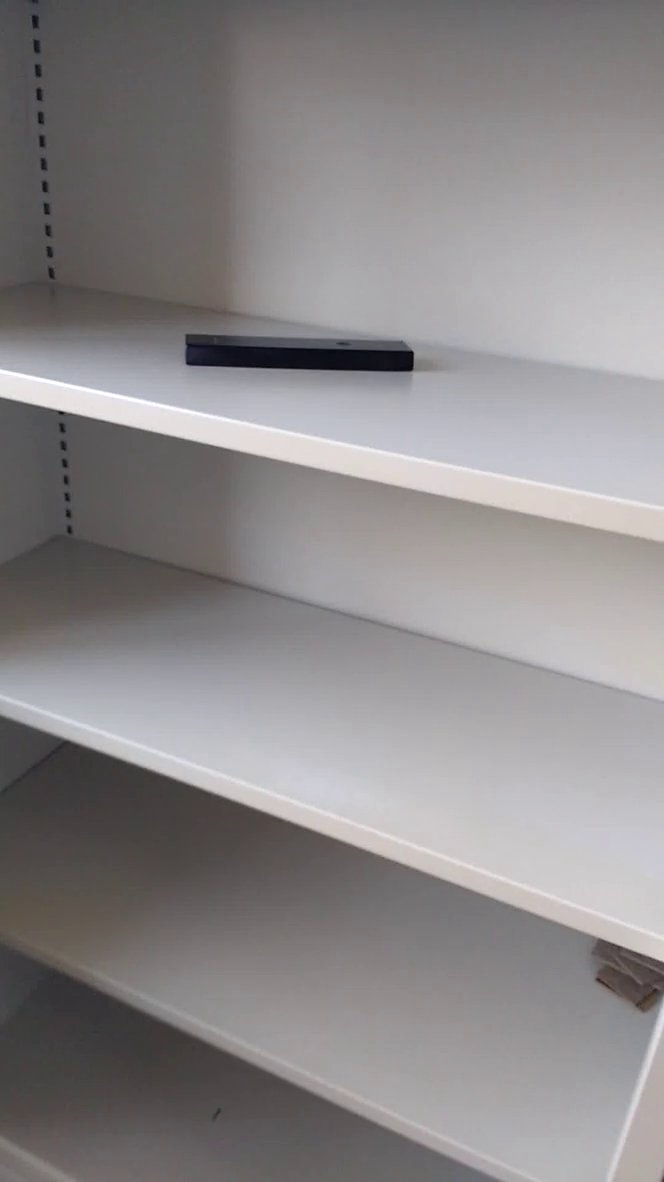remote: (168, 323, 440, 387)
